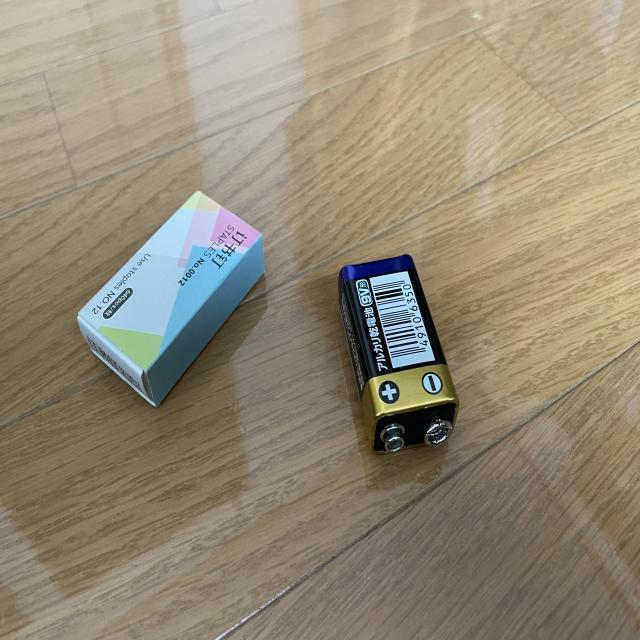9V: (338, 255, 459, 456)
